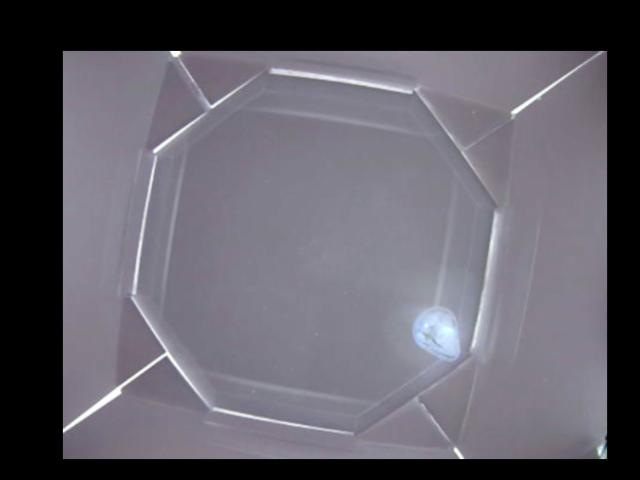Pebble: (411, 305, 460, 361)
